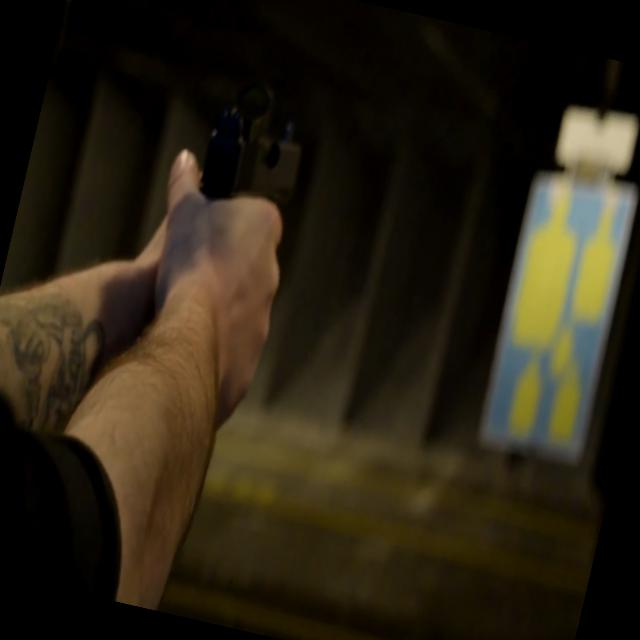handgun: (170, 72, 320, 294)
